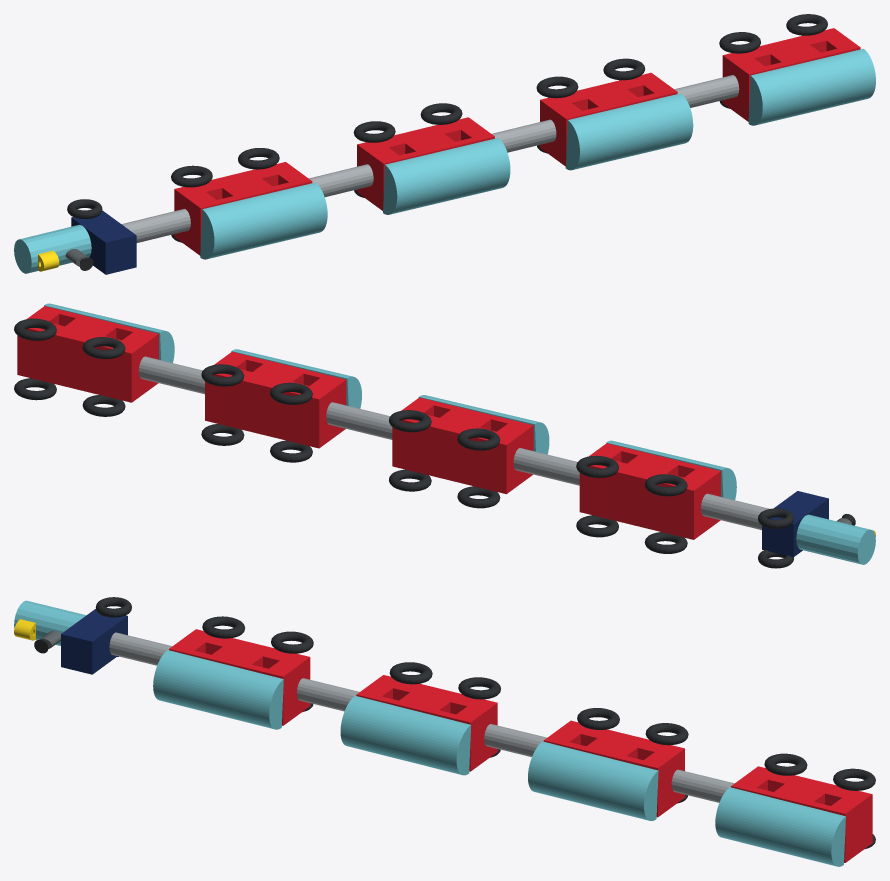
The model's file is tinker.obj.
The picture shows the model from 3 angles, top to bottom: view 1: azimuth 30°, elevation 25°; view 2: azimuth 150°, elevation 25°; view 3: azimuth 330°, elevation 25°; orthographic projection. The views are drawn at different scales.
Visible parts, largest first — view 1: group_0_7720667, group_0_15277357, group_0_2829873, group_0_10988977, group_0_1650274; view 2: group_0_15277357, group_0_2829873, group_0_7720667, group_0_10988977, group_0_1650274; view 3: group_0_7720667, group_0_15277357, group_0_2829873, group_0_10988977, group_0_1650274.
Part boxes in pixels (left/top/right/bottom): group_0_7720667: left=14, top=48, right=875, bottom=273; group_0_15277357: left=174, top=28, right=860, bottom=255; group_0_2829873: left=67, top=14, right=827, bottom=270; group_0_10988977: left=121, top=75, right=739, bottom=242; group_0_1650274: left=71, top=210, right=136, bottom=274; group_0_15277357: left=17, top=306, right=720, bottom=539; group_0_2829873: left=14, top=318, right=855, bottom=568; group_0_7720667: left=44, top=303, right=875, bottom=564; group_0_10988977: left=138, top=356, right=769, bottom=530; group_0_1650274: left=762, top=491, right=828, bottom=557; group_0_7720667: left=14, top=600, right=845, bottom=866; group_0_15277357: left=169, top=629, right=872, bottom=862; group_0_2829873: left=34, top=597, right=875, bottom=848; group_0_10988977: left=109, top=632, right=734, bottom=802; group_0_1650274: left=61, top=609, right=127, bottom=674.
Bounding box in the file's own units: 535 × 41 × 62.5.
